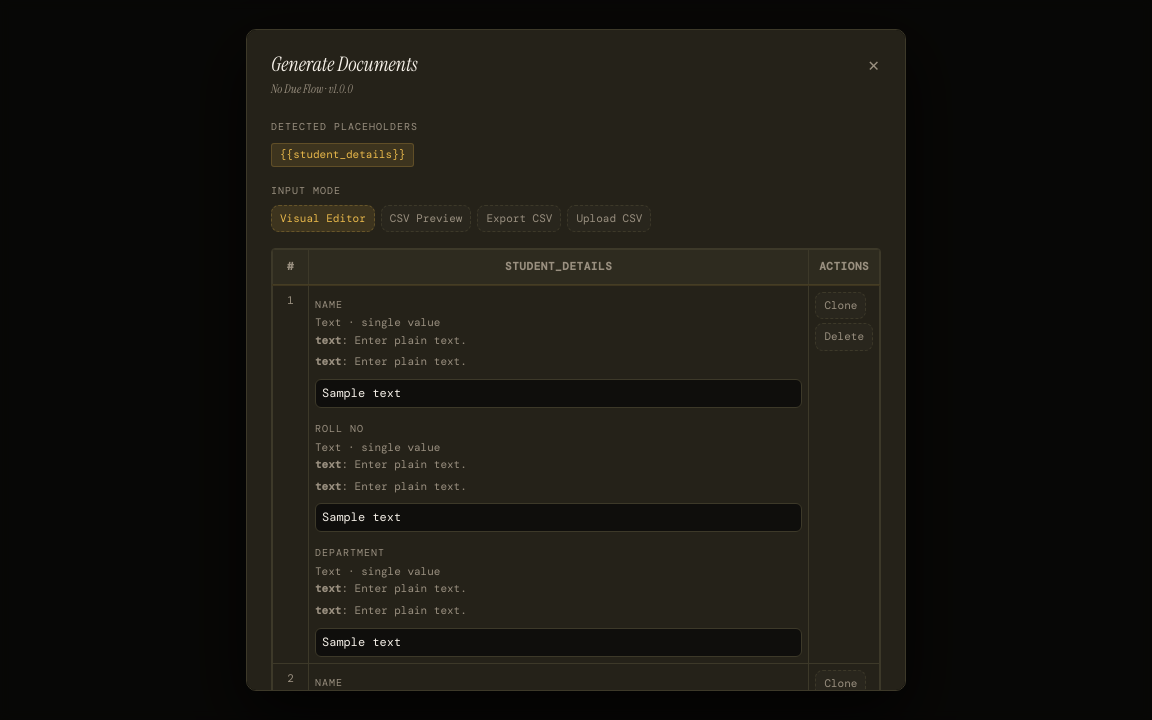
Scenario: GenerateModal no-due workflow › renders student details token fields for the no-due form
Replace the text in the 1st field with placeholder "name" with "Ada Lovelace" at coordinates (559, 394), box [315, 379, 802, 408]
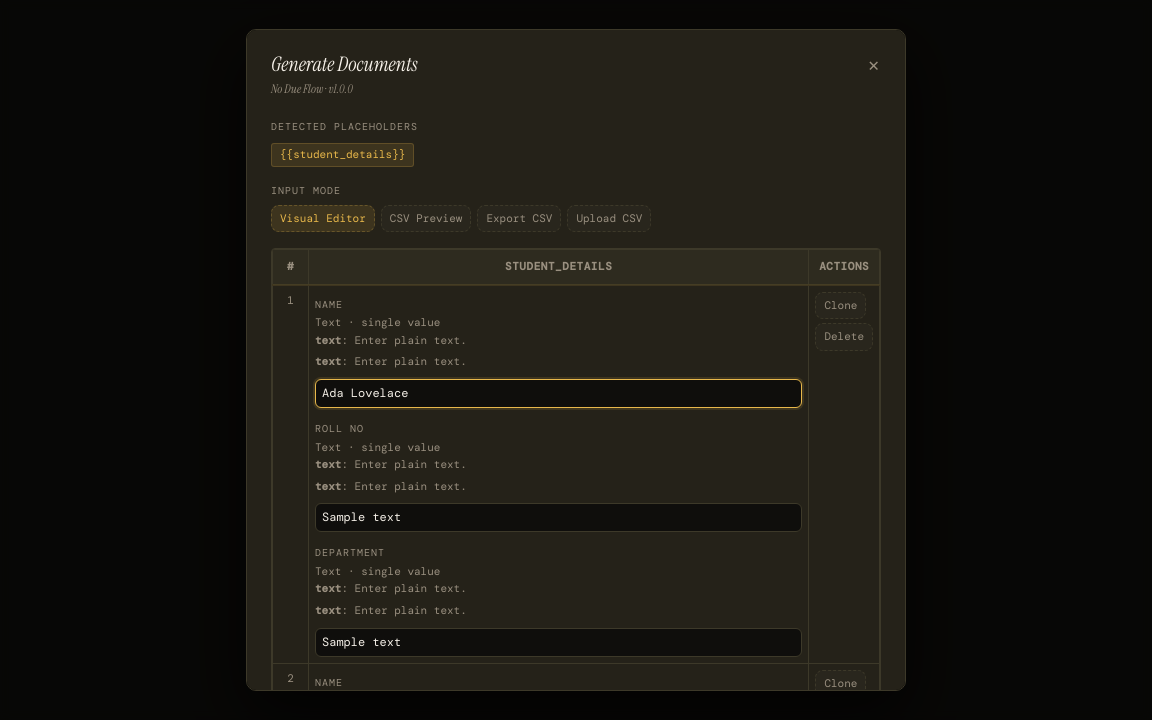
Replace the text in the field with placeholder "roll_no" below "Roll No" with "2026-01" at coordinates (559, 518), box [315, 503, 802, 532]
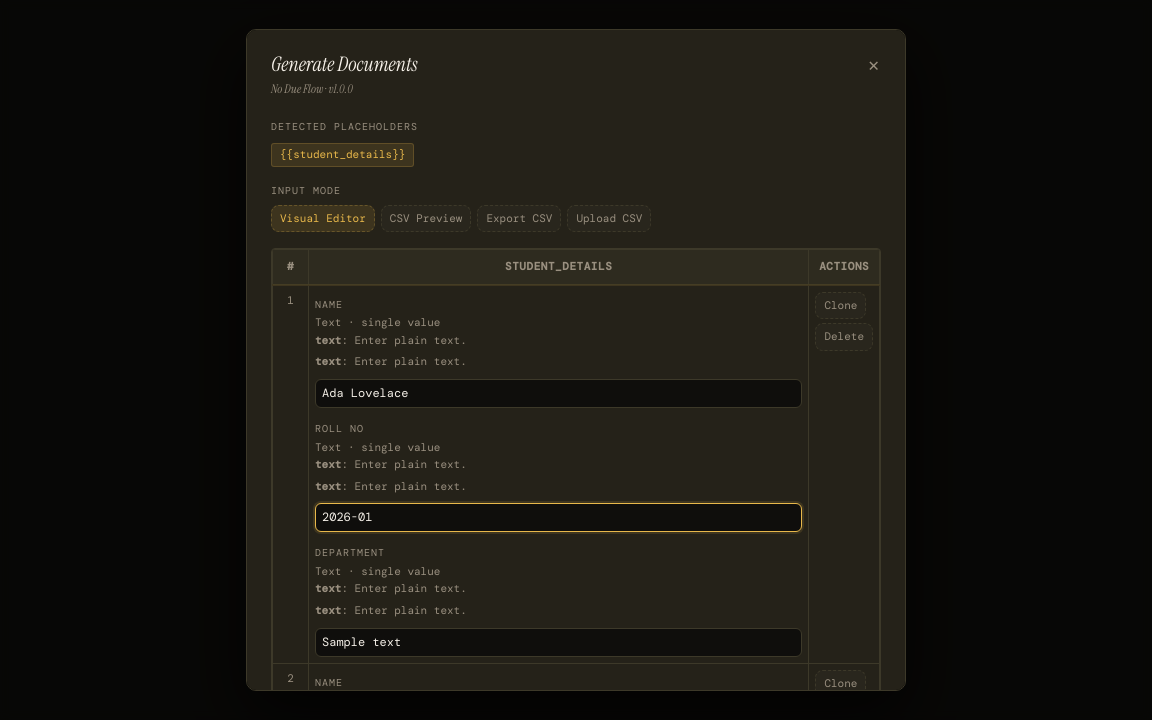
Replace the text in the field with placeholder "department" below "Department" with "CSE" at coordinates (559, 642), box [315, 628, 802, 657]
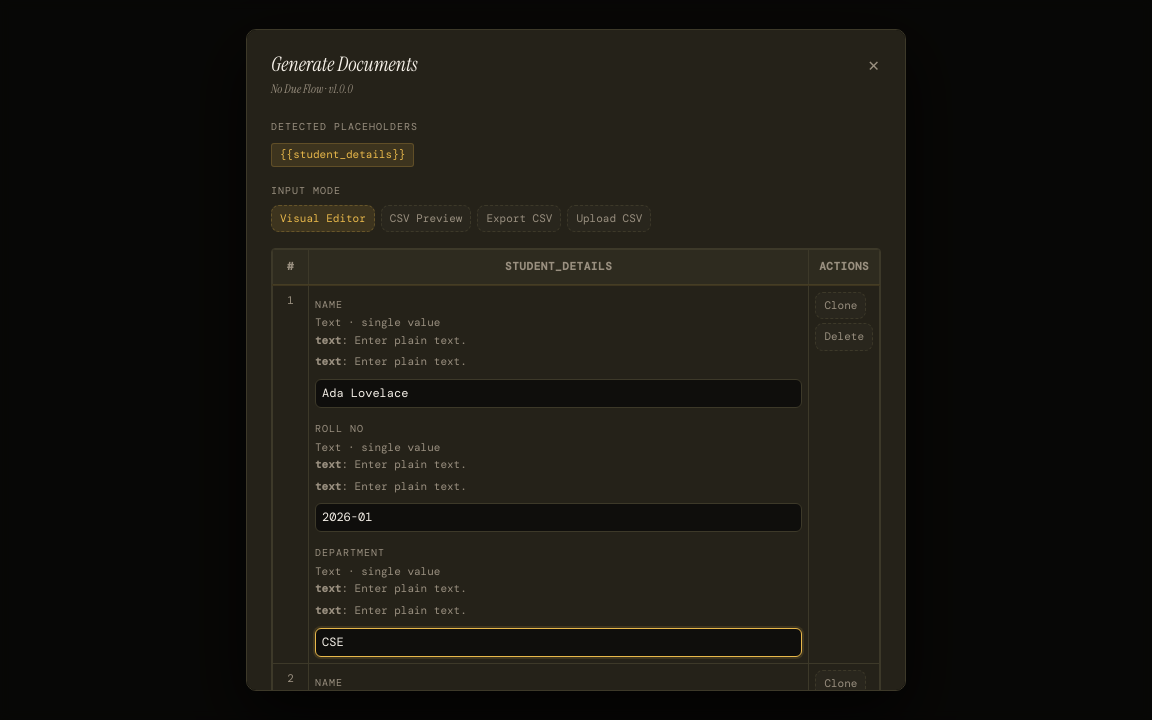
Click the button "CSV Preview".
click(426, 218)  # box [381, 205, 471, 232]
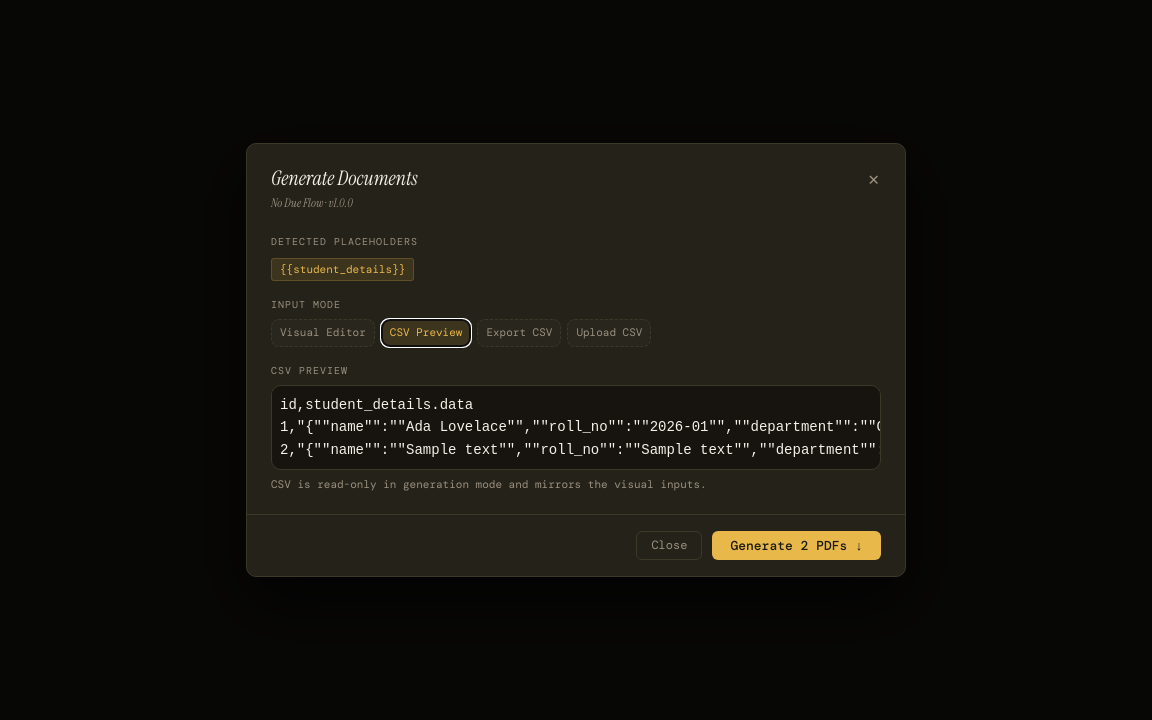
Check: the text named "CSV Preview" shows "Ada Lovelace", box [280, 397, 906, 458]
Check: the text named "CSV Preview" shows "2026-01", box [280, 397, 906, 458]
Check: the text named "CSV Preview" shows "CSE", box [280, 397, 906, 458]
